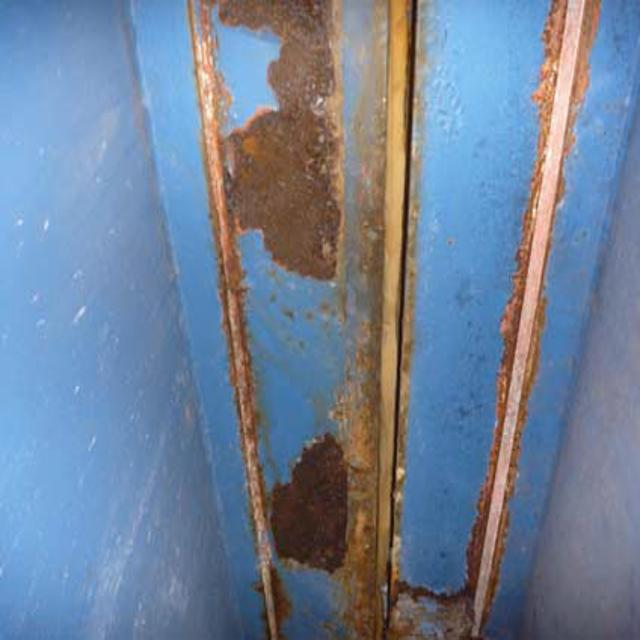corrosion: (183, 6, 598, 634)
